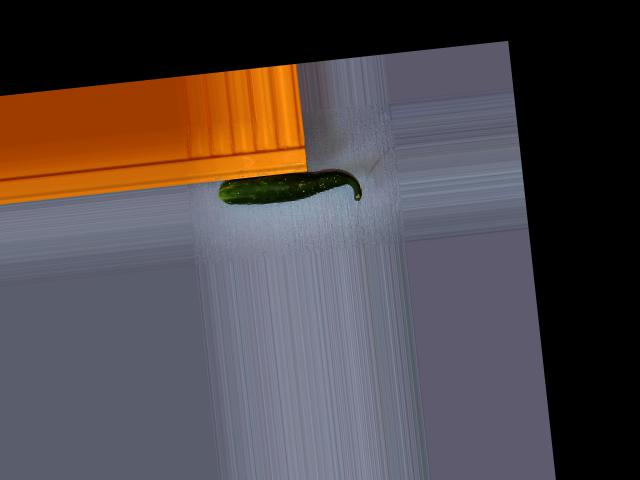cucumber: (218, 165, 363, 215)
